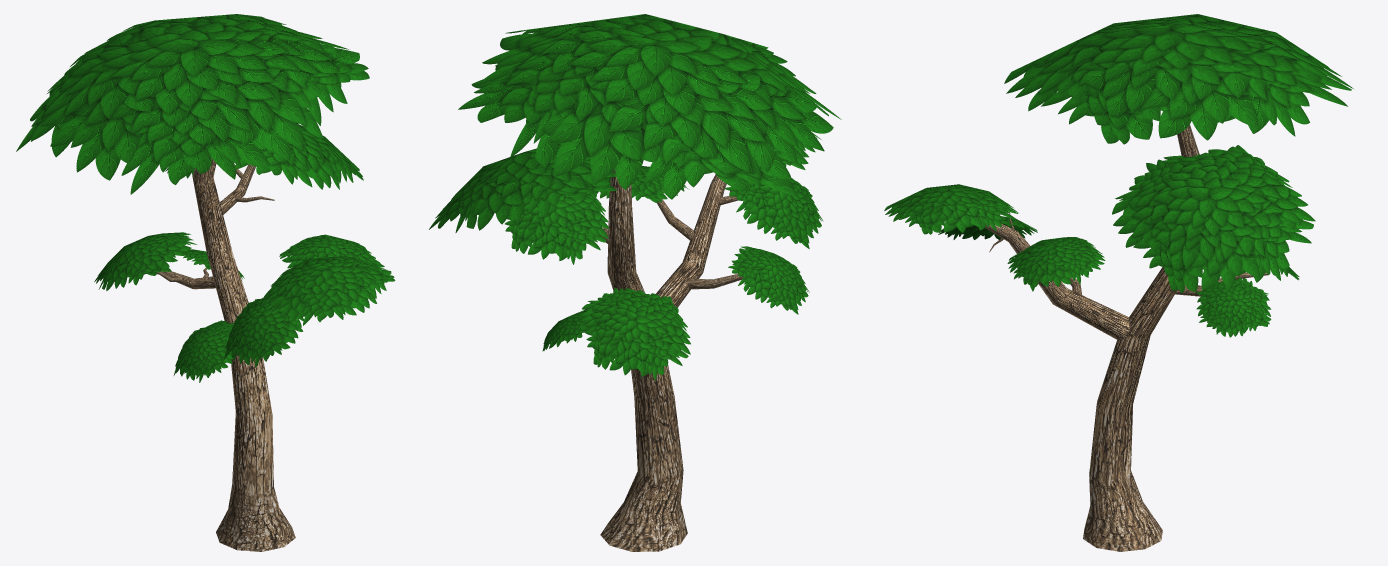
Rendered from Árvore 1.fbx.
3 views of the same model, side by side, from view 1: azimuth 30°, elevation 25°; view 2: azimuth 150°, elevation 25°; view 3: azimuth 270°, elevation 25° (orthographic). The views are drawn at different scales.
Parts seen in each view (by area): view 1: Árvore 1; view 2: Árvore 1; view 3: Árvore 1.
Boxes of the visible parts, x1,y1,x2,y2 form: Árvore 1: (16, 14, 395, 551); Árvore 1: (429, 14, 841, 551); Árvore 1: (884, 14, 1353, 551).
Bounding box in the file's own units: 7.05 × 9.48 × 8.72.
